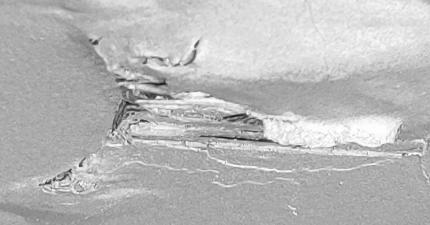paint-off: (1, 0, 430, 225)
